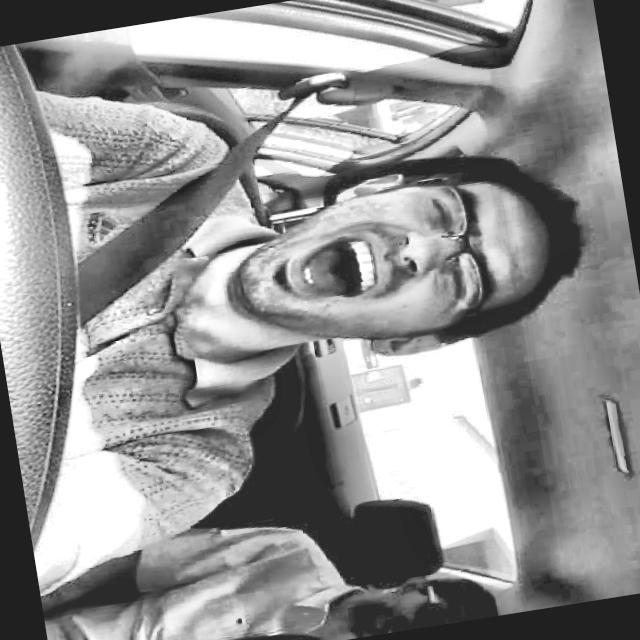closed_eyes: (436, 252, 482, 317), (415, 178, 465, 236)
open_mouth: (266, 219, 393, 317)
